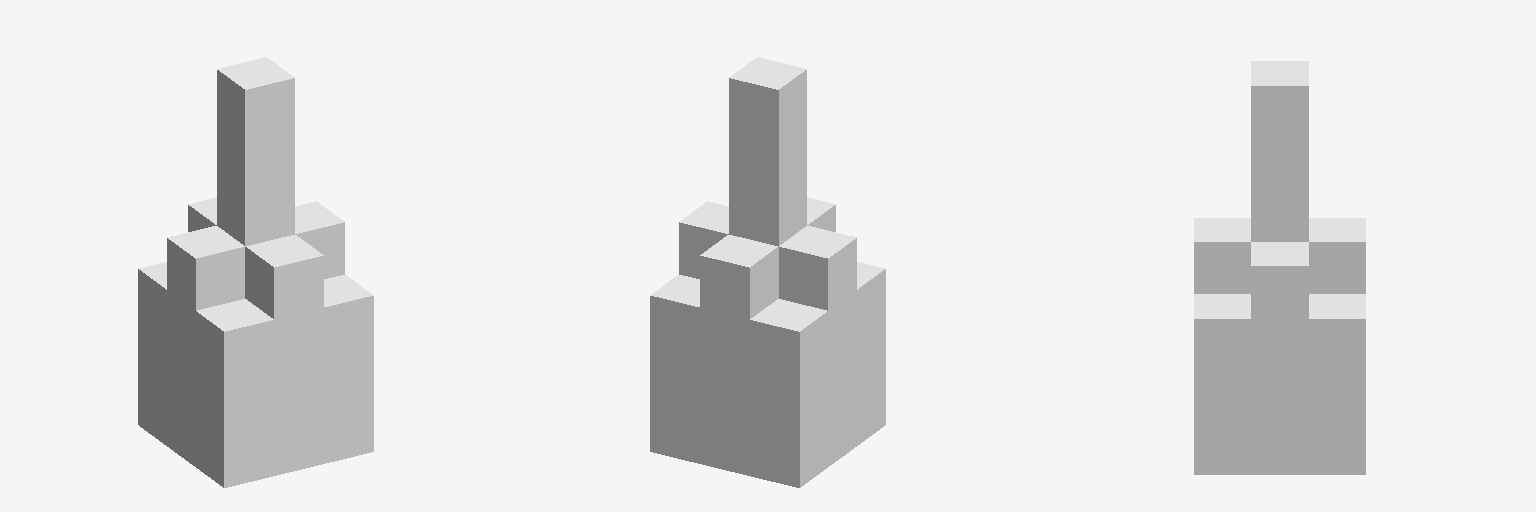
Rendered from tavern-59-bottle_green.obj.
3 renders of one model, left to right at view 1: azimuth 30°, elevation 25°; view 2: azimuth 150°, elevation 25°; view 3: azimuth 270°, elevation 25°, orthographic.
Parts seen in each view (by area): view 1: bottle_green; view 2: bottle_green; view 3: bottle_green.
Part boxes in pixels (x1,y1,x2,y2): bottle_green: (138, 57, 373, 487); bottle_green: (650, 57, 885, 487); bottle_green: (1194, 61, 1365, 474).
Size of the model in its own units: 0.3 by 0.7 by 0.3.